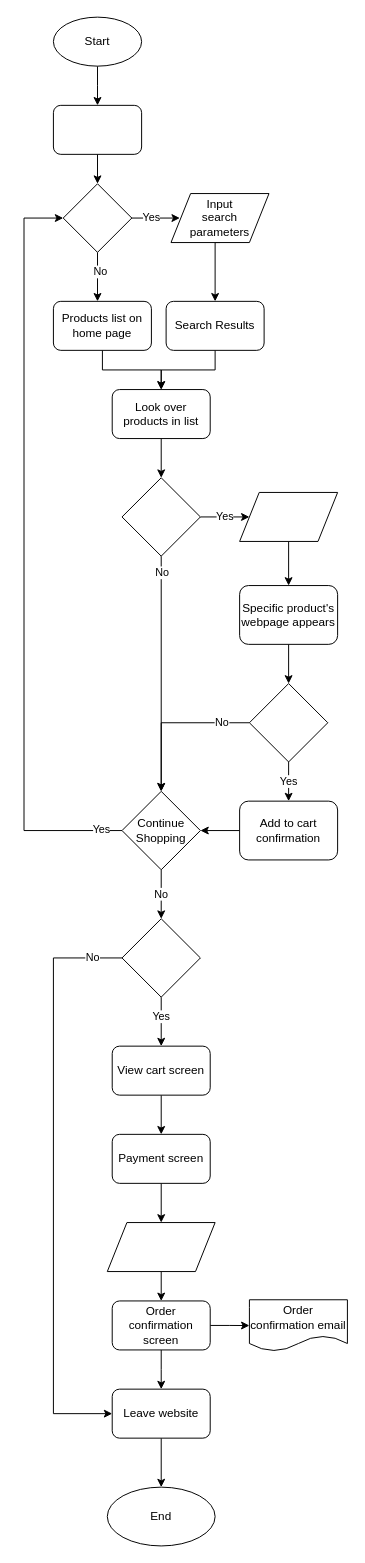
Some shapes in this 365 by 1563 pixel diagram are drawn without their labels. Each missing label, with the centre of its shape:
"Add product to cart" belongs at (x=288, y=722).
"Choose product to view" belongs at (x=288, y=516).
"Enter checkout" belongs at (x=160, y=957).
"Enter website" belongs at (x=97, y=129).
"Input payment information" belongs at (x=160, y=1247).
"Search Website" belongs at (x=97, y=217).
"View specific product" belongs at (x=160, y=516).
